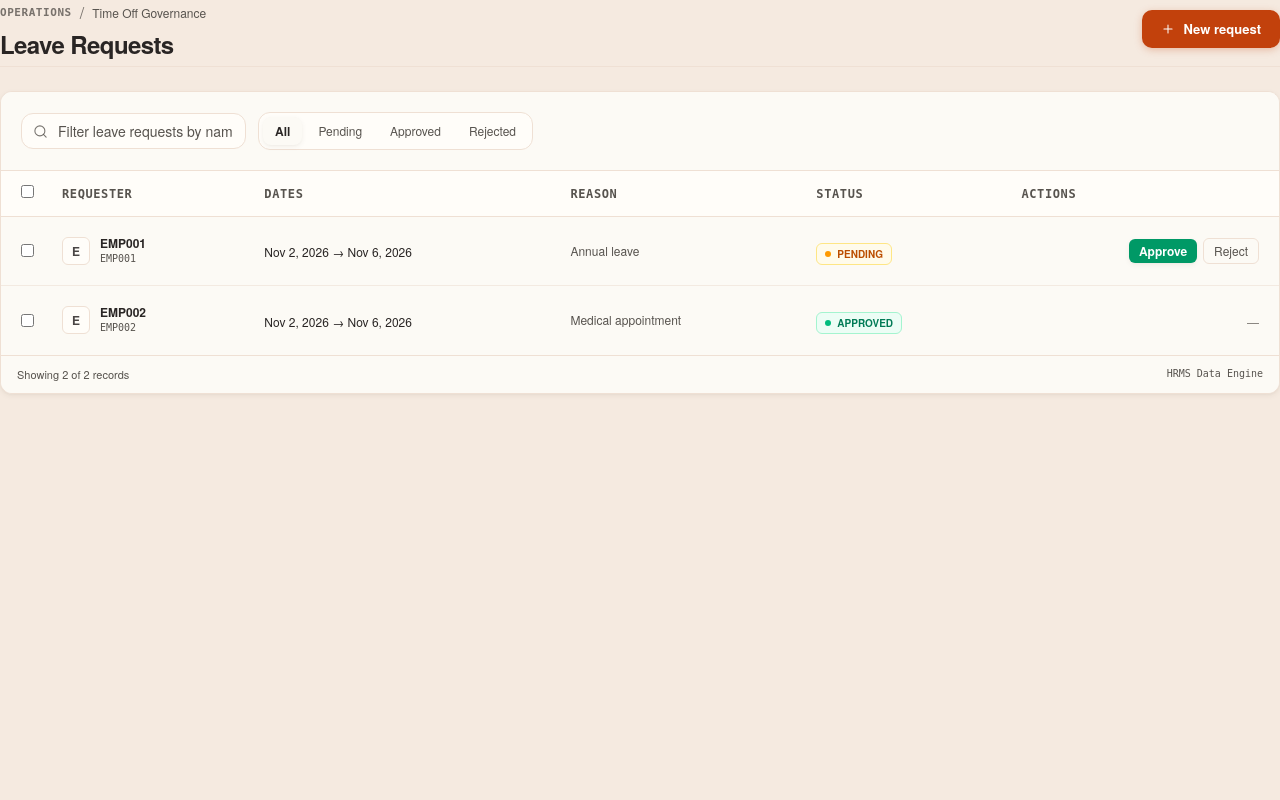
Scenario: LeavePage (ADMIN/HR reviewer) › offers the submit dialog to reviewers
This screenshot has width=1280, height=800.
Click the button "New request". click: (1211, 29)
box: [1142,10,1279,48]
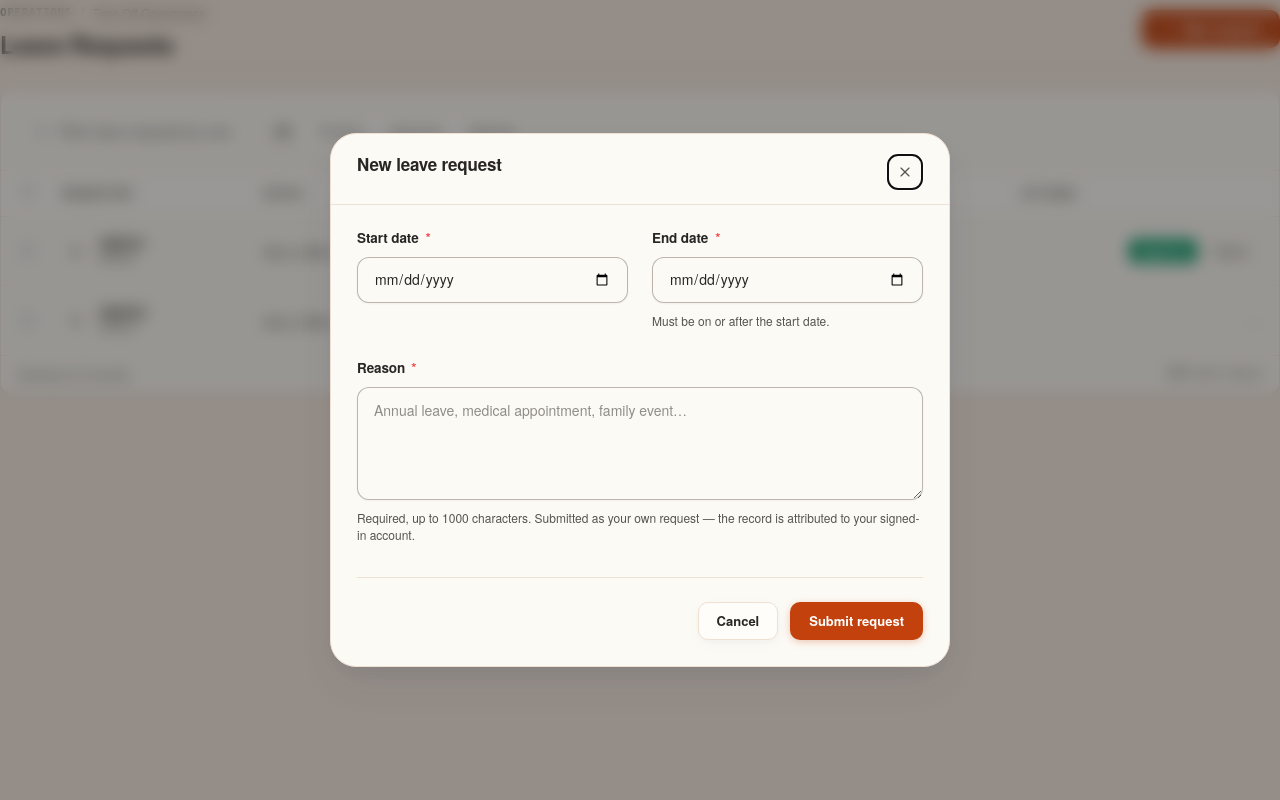
Expected: the dialog "New leave request" is shown, [330,133,950,667]
